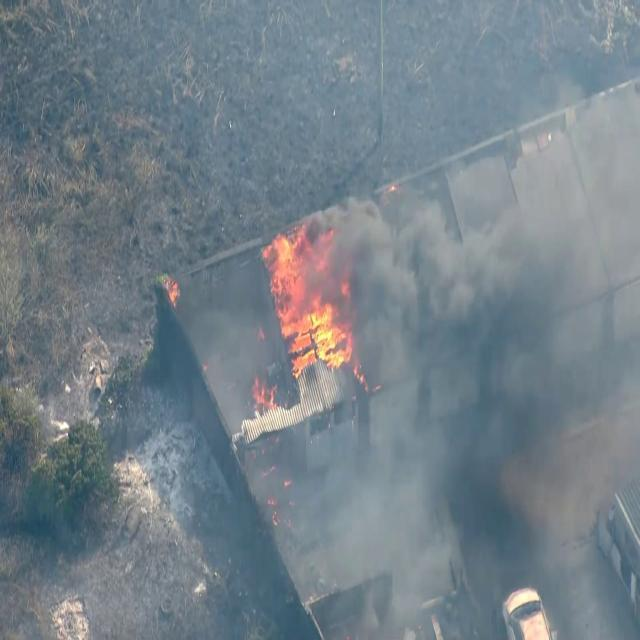Fire: (274, 233, 349, 360)
Smoke: (391, 200, 549, 383)
